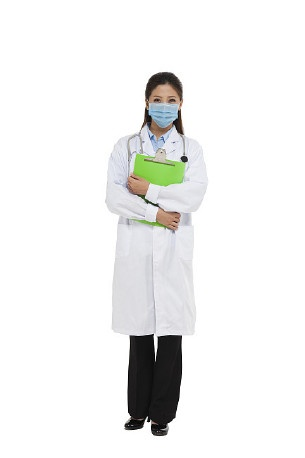Mask: (144, 94, 180, 130)
